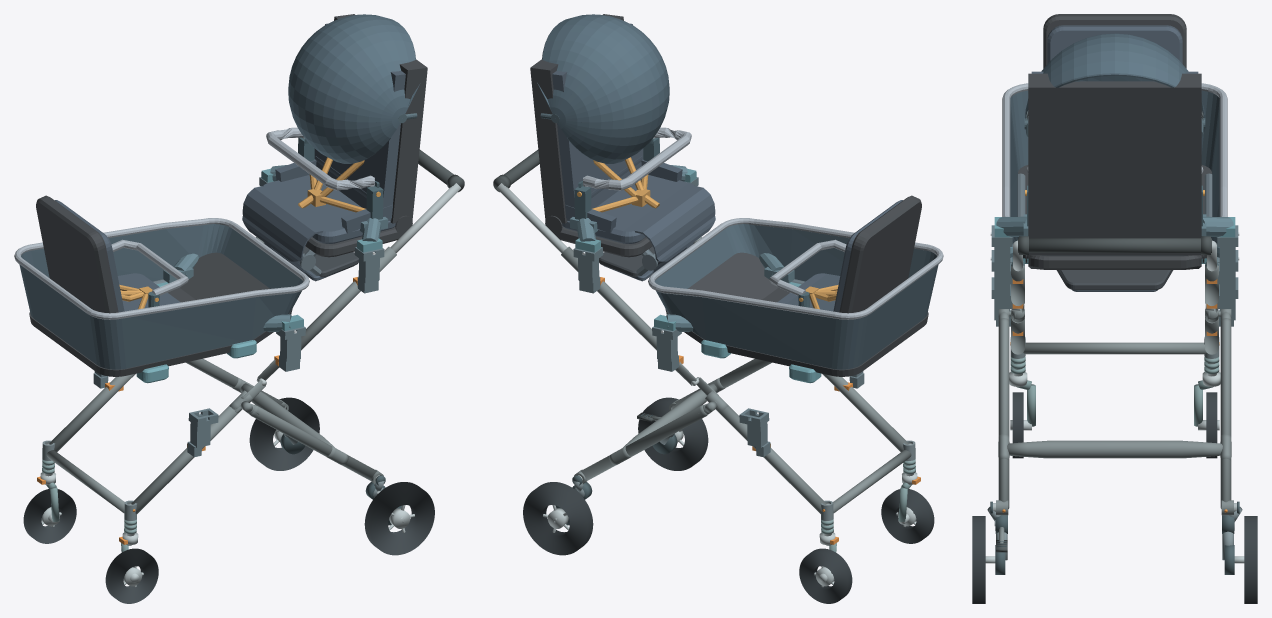
Rendered from D20_w550_state1_wheel_S.glb.
3 renders of one model, left to right at view 1: azimuth 30°, elevation 25°; view 2: azimuth 150°, elevation 25°; view 3: azimuth 270°, elevation 25°, orthographic. The views are drawn at different scales.
Parts seen in each view (by area): view 1: D20_Lower, D20_Upper, RL_tire.002, RR_tire.002, FL_tire.002, FR_tire.002, V46_rear_leg_-1.003, main_lower_-1.003, main_upper_-1.003, main_lower_1.003, D20_Lower_Mount_M, Universal_Cabin_Receiver_L_-1 (+7 smaller); view 2: D20_Lower, D20_Upper, RR_tire.002, RL_tire.002, FR_tire.002, FL_tire.002, V46_rear_leg_1.003, main_lower_1.003, main_upper_1.003, main_lower_-1.003, D20_Lower_Mount_M, Universal_Cabin_Receiver_L_1 (+7 smaller); view 3: D20_Upper, D20_Lower, V46_rearbar.003, round_handle.002, front_fixed_round_tube.002, V46_rear_leg_1.003, V46_rear_leg_-1.003, D20_Upper_Mount_H, RL_tire.002, RR_tire.002, Universal_Cabin_Receiver_H_1, Universal_Cabin_Receiver_H_-1 (+8 smaller).
Part boxes in pixels (left/top/right/bottom): D20_Lower: left=14, top=195, right=309, bottom=383; D20_Upper: left=242, top=14, right=427, bottom=281; RL_tire.002: left=364, top=482, right=434, bottom=555; RR_tire.002: left=249, top=397, right=319, bottom=470; FL_tire.002: left=105, top=548, right=158, bottom=603; FR_tire.002: left=23, top=489, right=76, bottom=543; V46_rear_leg_-1.003: left=249, top=405, right=376, bottom=480; main_lower_-1.003: left=131, top=406, right=240, bottom=514; main_upper_-1.003: left=301, top=246, right=396, bottom=350; main_lower_1.003: left=49, top=373, right=135, bottom=451; D20_Lower_Mount_M: left=163, top=253, right=303, bottom=333; Universal_Cabin_Receiver_L_-1: left=187, top=408, right=218, bottom=457; D20_Lower: left=648, top=195, right=943, bottom=383; D20_Upper: left=530, top=14, right=715, bottom=281; RR_tire.002: left=523, top=482, right=593, bottom=555; RL_tire.002: left=638, top=397, right=708, bottom=470; FR_tire.002: left=799, top=548, right=852, bottom=603; FL_tire.002: left=881, top=489, right=934, bottom=543; V46_rear_leg_1.003: left=581, top=405, right=708, bottom=480; main_lower_1.003: left=717, top=406, right=826, bottom=514; main_upper_1.003: left=561, top=246, right=656, bottom=350; main_lower_-1.003: left=822, top=373, right=908, bottom=451; D20_Lower_Mount_M: left=654, top=253, right=794, bottom=333; Universal_Cabin_Receiver_L_1: left=739, top=408, right=770, bottom=457; D20_Upper: left=1024, top=33, right=1205, bottom=291; D20_Lower: left=1002, top=14, right=1227, bottom=263; V46_rearbar.003: left=1007, top=440, right=1222, bottom=458; round_handle.002: left=1018, top=238, right=1211, bottom=252; front_fixed_round_tube.002: left=1023, top=342, right=1206, bottom=354; V46_rear_leg_1.003: left=1220, top=318, right=1231, bottom=508; V46_rear_leg_-1.003: left=998, top=318, right=1009, bottom=508; D20_Upper_Mount_H: left=990, top=214, right=1239, bottom=237; RL_tire.002: left=972, top=516, right=985, bottom=603; RR_tire.002: left=1244, top=516, right=1257, bottom=603; Universal_Cabin_Receiver_H_1: left=1217, top=225, right=1238, bottom=284; Universal_Cabin_Receiver_H_-1: left=991, top=225, right=1012, bottom=284.
Size of the model in its own units: 1.15 by 1.43 by 0.6471.
